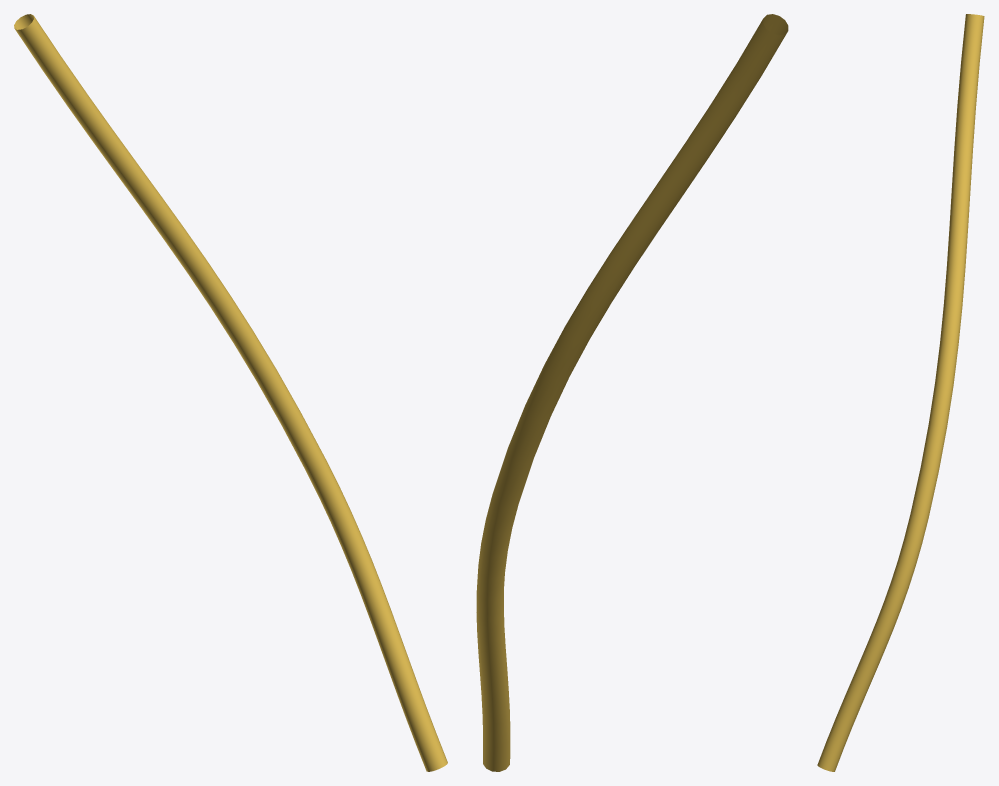
The model's file is Brachial_plexus_left.glb.
3 views of the same model, side by side, from view 1: azimuth 30°, elevation 25°; view 2: azimuth 150°, elevation 25°; view 3: azimuth 270°, elevation 25° (orthographic). The views are drawn at different scales.
Parts seen in each view (by area): view 1: Brachial_plexus.l_BezierCurve.546; view 2: Brachial_plexus.l_BezierCurve.546; view 3: Brachial_plexus.l_BezierCurve.546.
Part boxes in pixels (left/top/right/bottom): Brachial_plexus.l_BezierCurve.546: left=14, top=14, right=447, bottom=771; Brachial_plexus.l_BezierCurve.546: left=476, top=14, right=788, bottom=771; Brachial_plexus.l_BezierCurve.546: left=817, top=14, right=984, bottom=771.
Size of the model in its own units: 0.0169 by 0.0364 by 0.00872.
